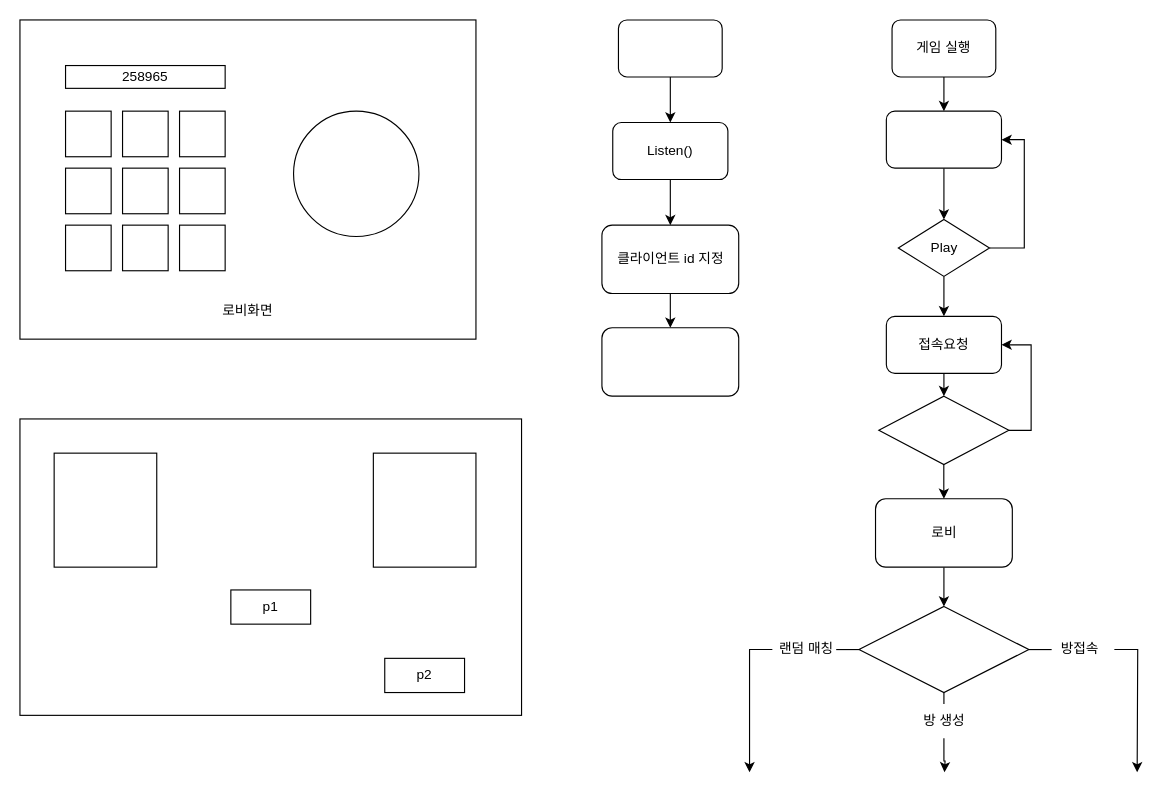
The diagram is 1167 pixels wide and 801 high, and some of its shapes have lost their labels. The centre of each missing label's shape, as x and y in pixels:
"sc_packet_login" goes at point 670,361.
"로그인" goes at point 943,430.
"서버 실행" goes at point 669,48.
"타이틀" goes at point 943,139.
"행동" goes at point 943,649.
